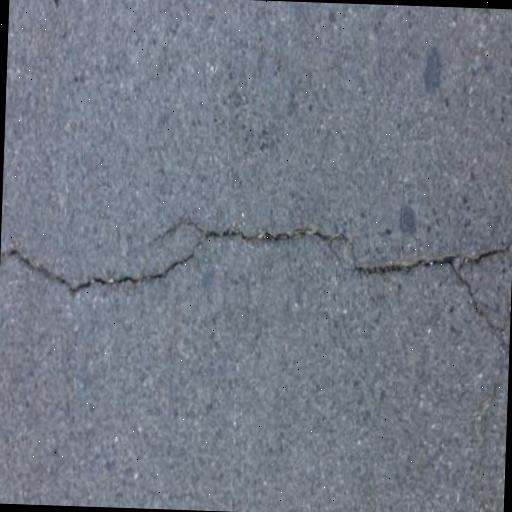spalling: (11, 197, 508, 359)
